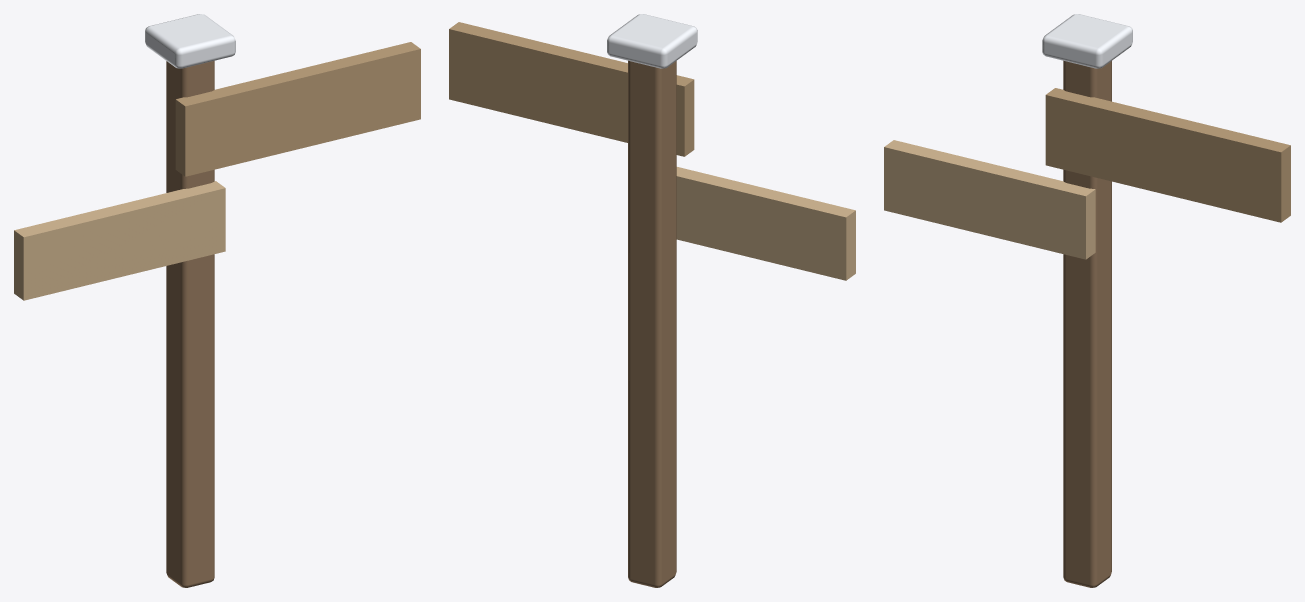
File: signpost.glb
3 renders of one model, left to right at view 1: azimuth 30°, elevation 25°; view 2: azimuth 150°, elevation 25°; view 3: azimuth 330°, elevation 25°, orthographic.
Visible parts, largest first — view 1: board_a, post, board_b, cap; view 2: post, board_a, board_b, cap; view 3: board_a, post, board_b, cap.
Part boxes in pixels (x1=…): board_a: x1=175, y1=42, x2=420, y2=176; post: x1=166, y1=61, x2=214, y2=587; board_b: x1=14, y1=181, x2=225, y2=300; cap: x1=145, y1=14, x2=235, y2=68; post: x1=628, y1=60, x2=676, y2=587; board_a: x1=449, y1=22, x2=694, y2=156; board_b: x1=676, y1=167, x2=855, y2=280; cap: x1=607, y1=14, x2=697, y2=68; board_a: x1=1045, y1=88, x2=1290, y2=222; post: x1=1063, y1=60, x2=1111, y2=587; board_b: x1=884, y1=140, x2=1095, y2=259; cap: x1=1042, y1=14, x2=1132, y2=68.
Bounding box in the file's own units: 1.18 × 1.56 × 0.185.
